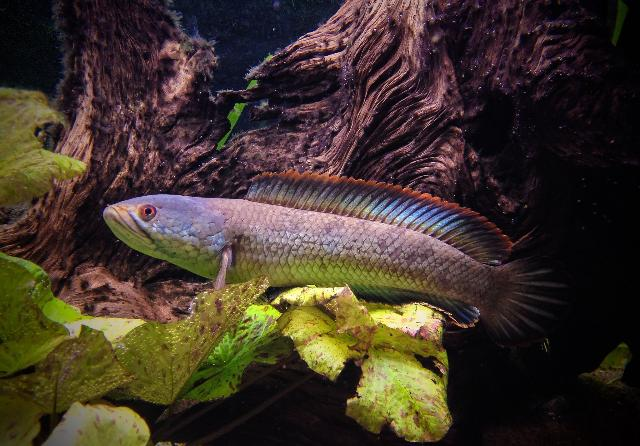Mulut: (94, 194, 164, 255)
Sirip Anal: (340, 280, 482, 334)
Sirip Dada: (203, 250, 239, 298)
Sirip Ekor: (476, 248, 578, 362)
Sirip Punggung: (244, 164, 522, 260)
